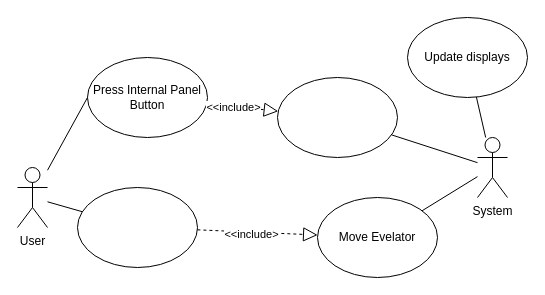
Some shapes in this 545 by 295 pixel diagram are drawn without their labels. The centre of each missing label's shape, as x and y in pixels:
"Press External Panel Button" goes at (137,227).
"Schedule elevator for request" goes at (337,117).
